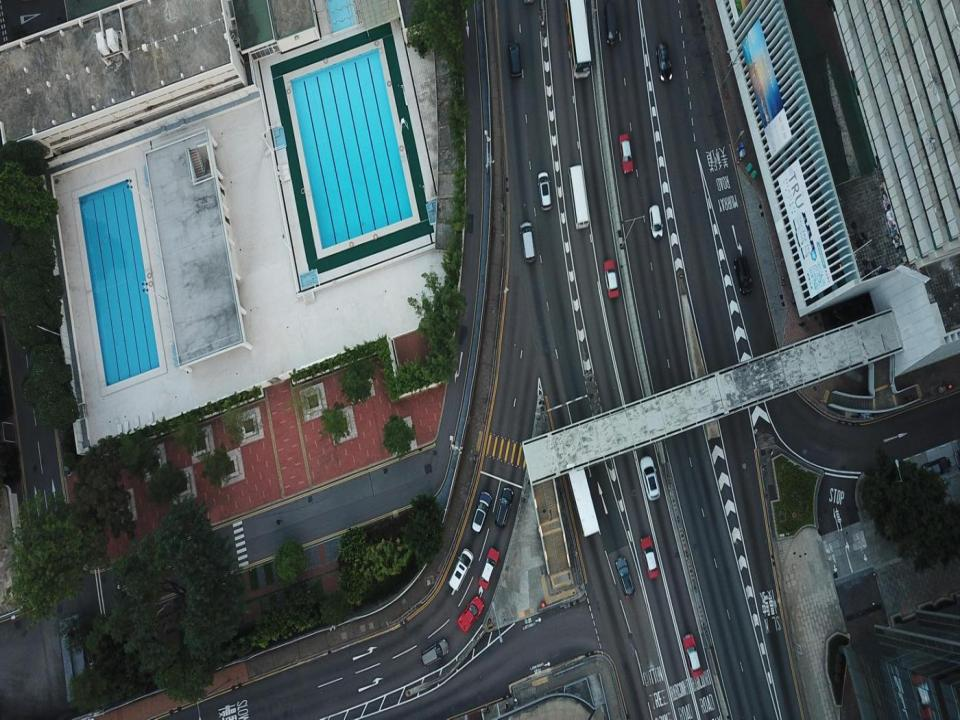bus: (566, 441, 600, 538), (565, 0, 592, 79), (568, 165, 588, 230)
car: (448, 548, 474, 591), (681, 632, 703, 678), (638, 455, 660, 501), (615, 556, 636, 602), (471, 490, 492, 534), (457, 597, 483, 632), (478, 548, 499, 590), (640, 535, 659, 580), (420, 639, 448, 668), (495, 487, 514, 527), (655, 41, 673, 82), (920, 457, 951, 478), (604, 258, 620, 298), (618, 134, 634, 173), (520, 221, 535, 262), (509, 40, 522, 79), (538, 172, 551, 211), (649, 204, 662, 239)
van: (734, 256, 753, 296), (605, 3, 618, 44)
